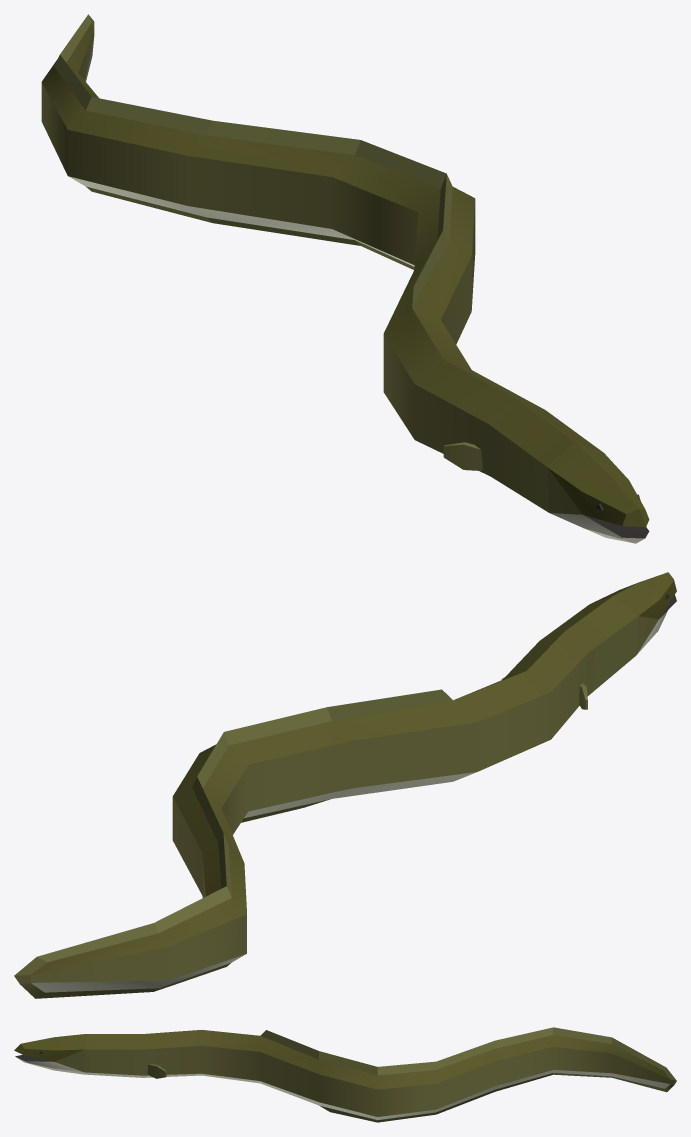
Rendered from 9re2iW8tOnP.glb.
The picture shows the model from 3 angles, top to bottom: view 1: azimuth 30°, elevation 25°; view 2: azimuth 150°, elevation 25°; view 3: azimuth 270°, elevation 25°; orthographic projection. The views are drawn at different scales.
Visible parts, largest first — view 1: Geo_Eel; view 2: Geo_Eel; view 3: Geo_Eel.
Boxes of the visible parts, <box> form: Geo_Eel: <box>41,14,649,543</box>; Geo_Eel: <box>14,572,676,998</box>; Geo_Eel: <box>14,1027,676,1122</box>.
Bounding box in the file's own units: 2.19 × 1 × 10.33.
1 material, 1 textured.
